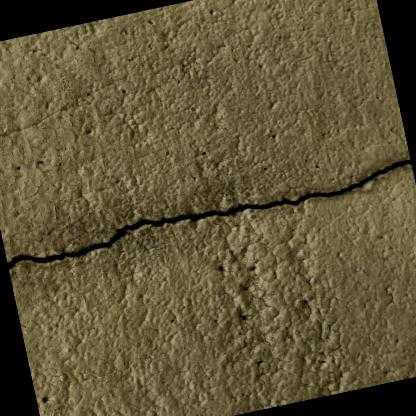crack: (7, 158, 411, 268)
